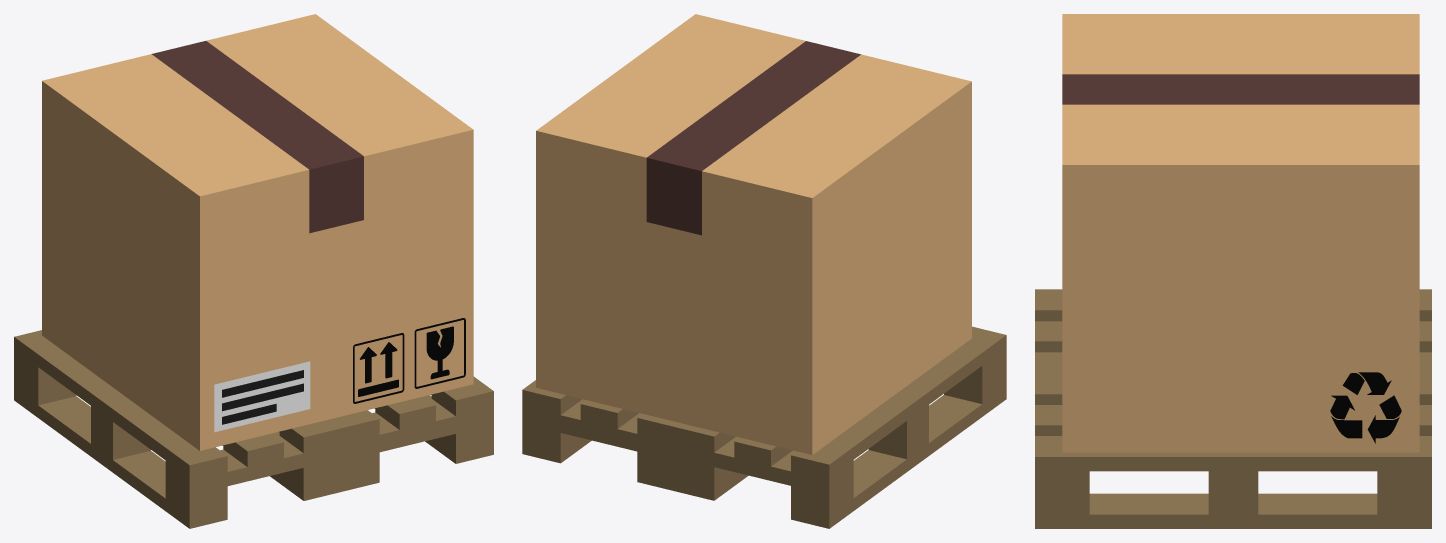
File: package4.fbx
3 views of the same model, side by side, from view 1: azimuth 30°, elevation 25°; view 2: azimuth 150°, elevation 25°; view 3: azimuth 270°, elevation 25° (orthographic). The views are drawn at different scales.
Visible parts, largest first — view 1: Package, Palette, Band, Plane.002, Plane.001, Plane, Plane.003, Plane.004; view 2: Package, Palette, Band; view 3: Package, Palette, Band, Plane.006.
Boxes of the visible parts, x1,y1,x2,y2 form: Package: (42, 14, 473, 450); Palette: (14, 330, 493, 528); Band: (151, 41, 363, 233); Plane.002: (214, 361, 310, 432); Plane.001: (353, 333, 404, 403); Plane: (414, 318, 465, 388); Plane.003: (222, 370, 303, 397); Plane.004: (222, 383, 303, 411); Package: (536, 14, 971, 454); Palette: (522, 326, 1006, 528); Band: (646, 41, 860, 235); Package: (1062, 14, 1419, 452); Palette: (1035, 289, 1431, 528); Band: (1062, 74, 1419, 104); Plane.006: (1330, 372, 1401, 443).
Size of the model in its own units: 200 by 200 by 200.
8 materials, 3 textured.
